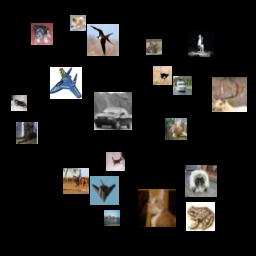airplane: (50, 67, 82, 99), (90, 176, 119, 205)
automobile: (94, 92, 132, 130)
bird: (87, 24, 119, 56), (153, 66, 172, 85)
cat: (138, 189, 176, 227), (165, 118, 187, 140), (106, 152, 125, 171), (146, 39, 162, 55), (11, 95, 27, 111)
deer: (212, 77, 247, 112)
dog: (185, 165, 217, 197), (16, 122, 38, 144), (31, 23, 53, 45), (70, 15, 86, 31)
frog: (186, 202, 215, 231)
ship: (173, 76, 192, 95), (104, 210, 120, 226)
